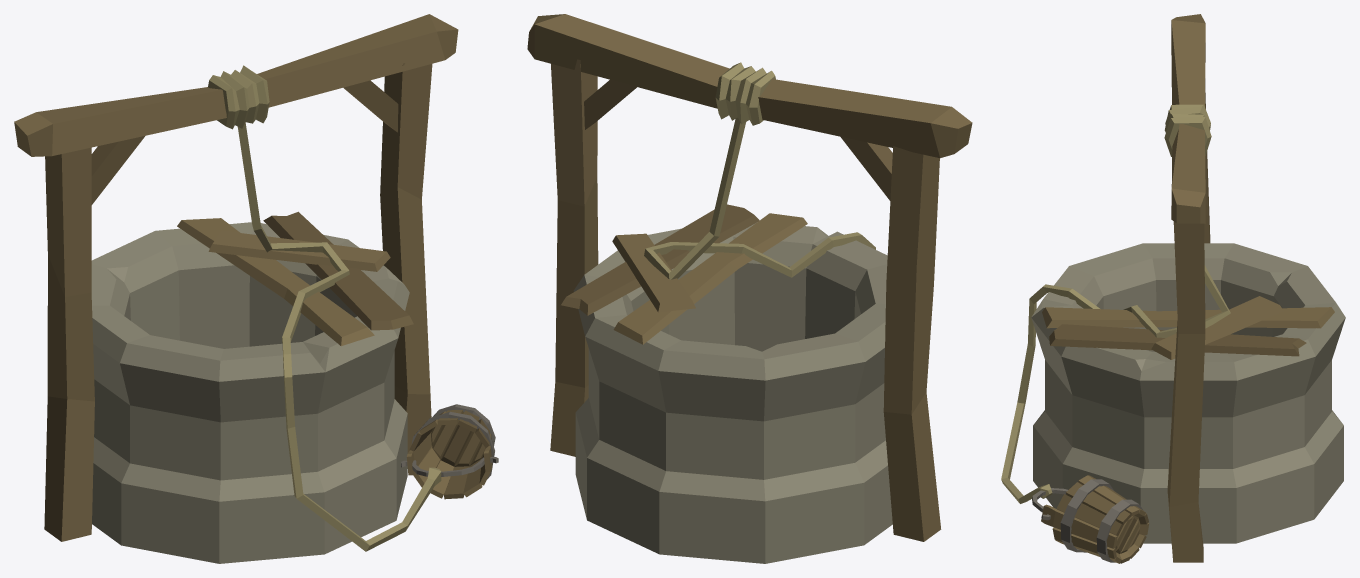
Rendered from Well.fbx.
3 views of the same model, side by side, from view 1: azimuth 30°, elevation 25°; view 2: azimuth 150°, elevation 25°; view 3: azimuth 270°, elevation 25° (orthographic). The views are drawn at different scales.
Visible parts, largest first — view 1: Well; view 2: Well; view 3: Well.
Part boxes in pixels (x1,y1,x2,y2): Well: (14,14,498,563); Well: (527,14,972,563); Well: (1001,14,1345,563).
Size of the model in its own units: 205 by 192 by 159.
